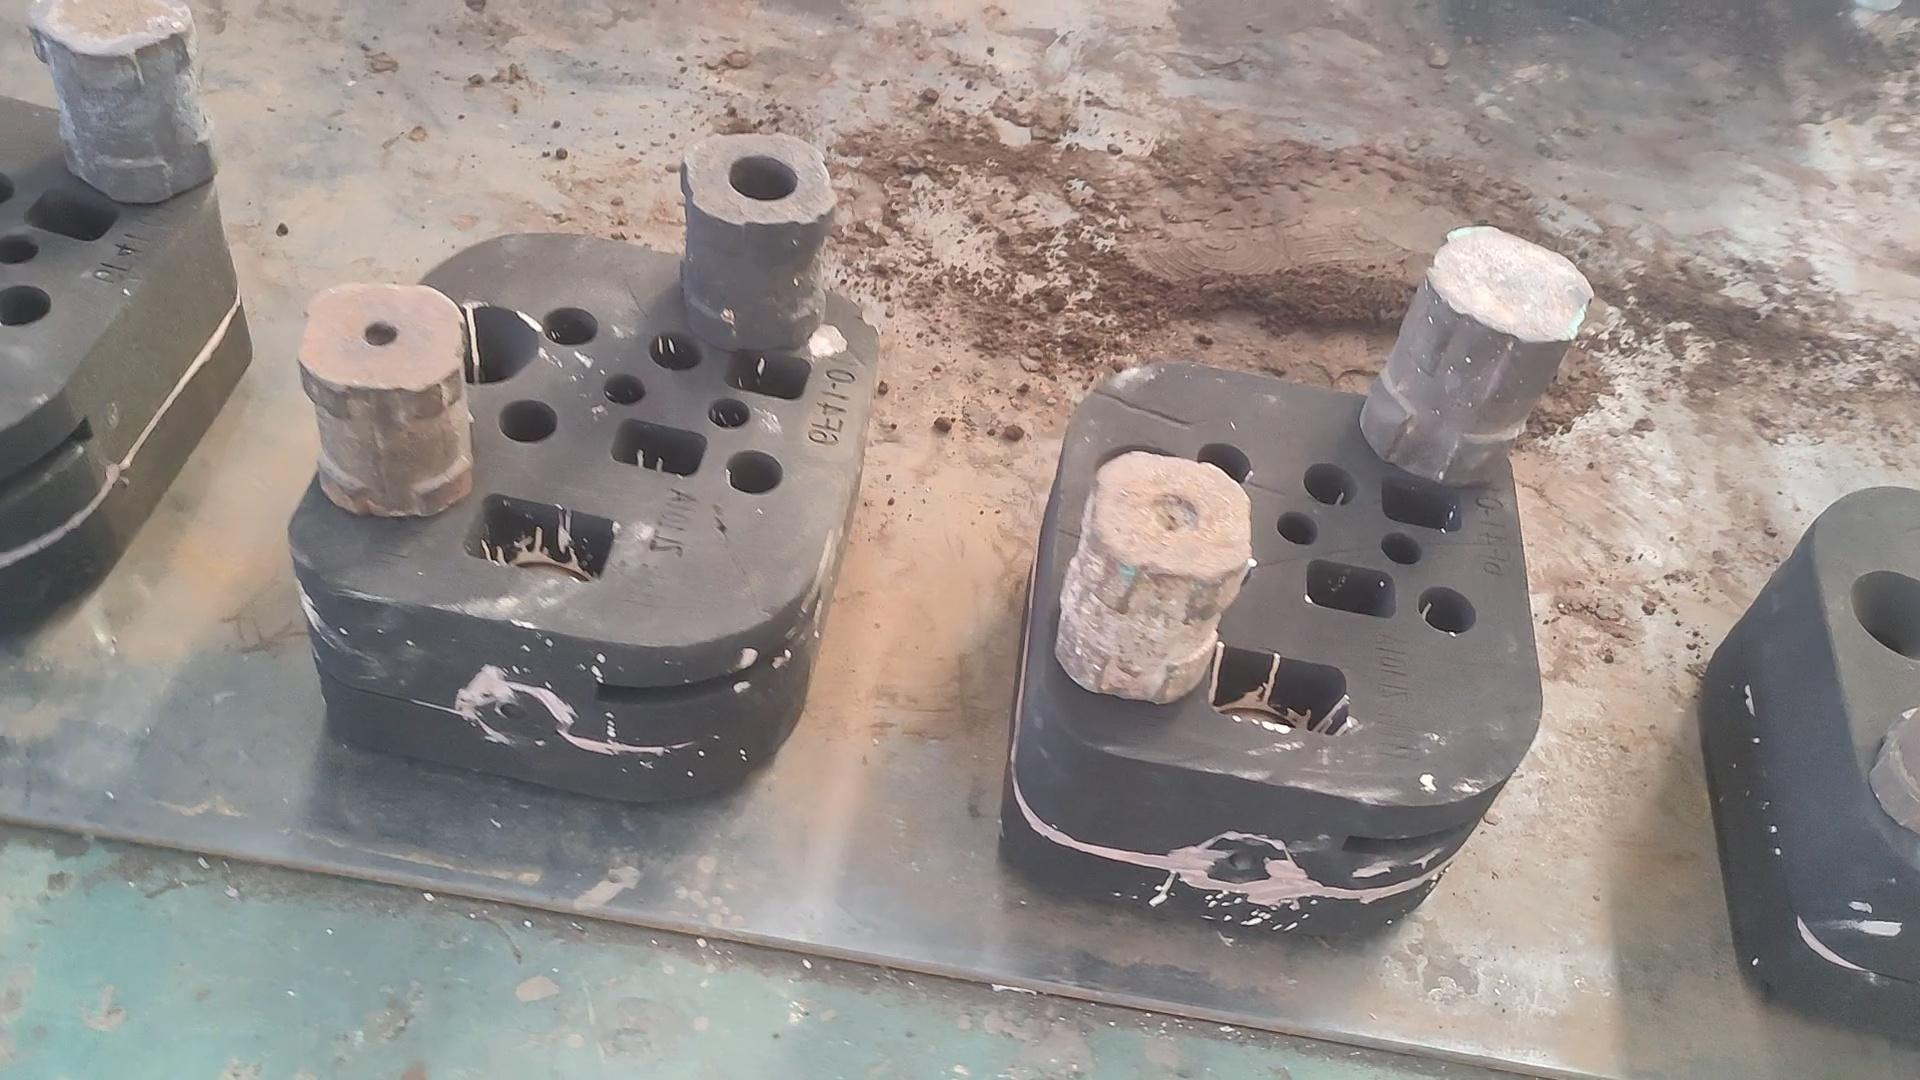pouring hole: (425, 301, 537, 388), (1091, 444, 1189, 522), (1850, 570, 1920, 661)
